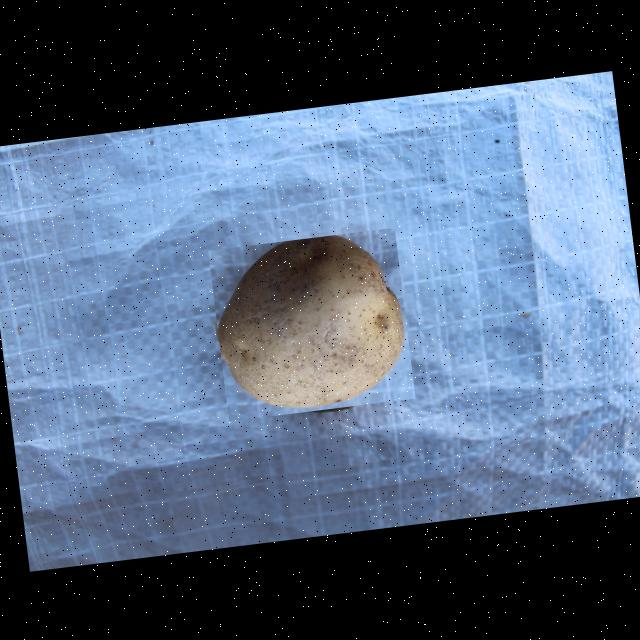Diseased-fungal potato: (206, 226, 414, 420)
